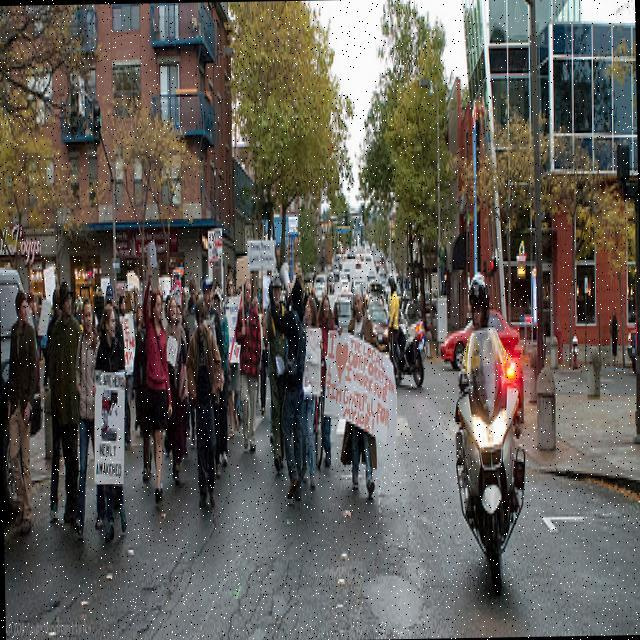fire_hydrant: (571, 331, 578, 366)
